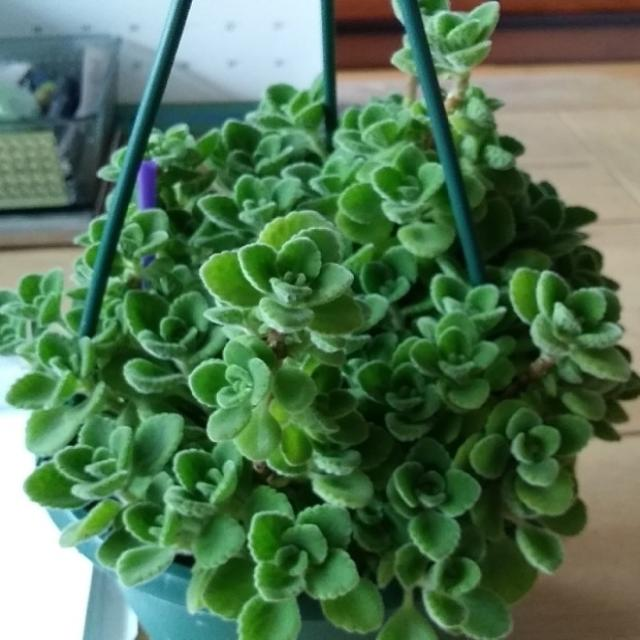Vicks: (203, 486, 384, 640), (200, 211, 365, 334), (27, 415, 184, 543), (189, 336, 317, 461), (470, 400, 592, 516), (510, 269, 631, 383), (336, 144, 455, 257), (388, 438, 482, 561)
